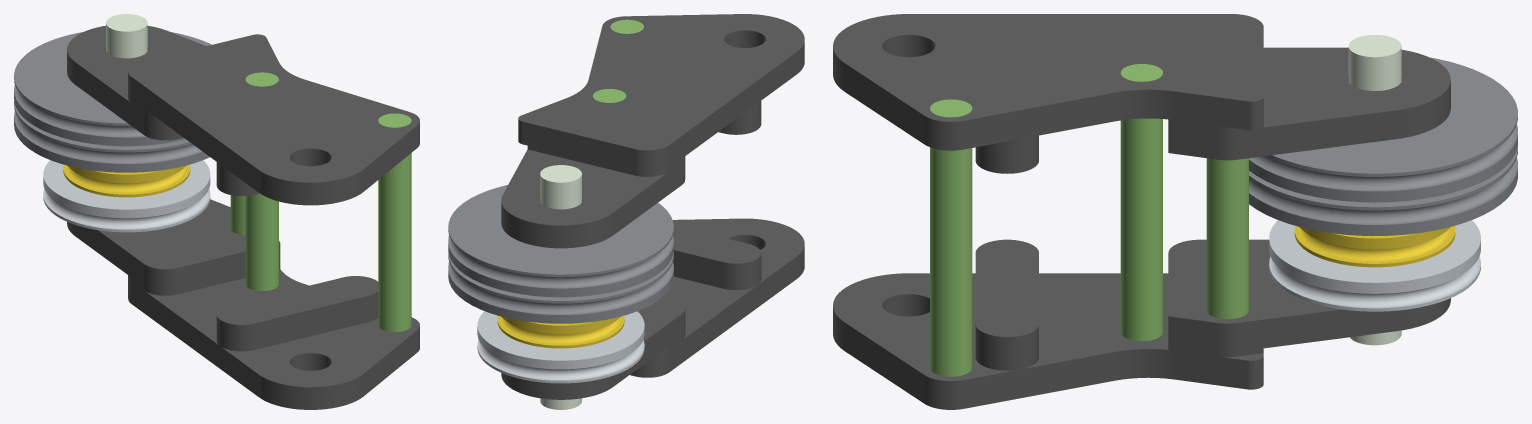
The model's file is proximal.gltf.
The picture shows the model from 3 angles, left to right: view 1: azimuth 30°, elevation 25°; view 2: azimuth 150°, elevation 25°; view 3: azimuth 270°, elevation 25°; orthographic projection. The views are drawn at different scales.
Visible parts, largest first — view 1: Part 1 (×10); view 2: Part 1 (×9); view 3: Part 1 (×10).
Boxes of the visible parts, x1,y1,x2,y2 form: Part 1 (×10): (14, 14, 419, 409); Part 1 (×9): (448, 14, 804, 409); Part 1 (×10): (833, 14, 1517, 409).
Bounding box in the file's own units: 0.0304 × 0.03 × 0.0646.
